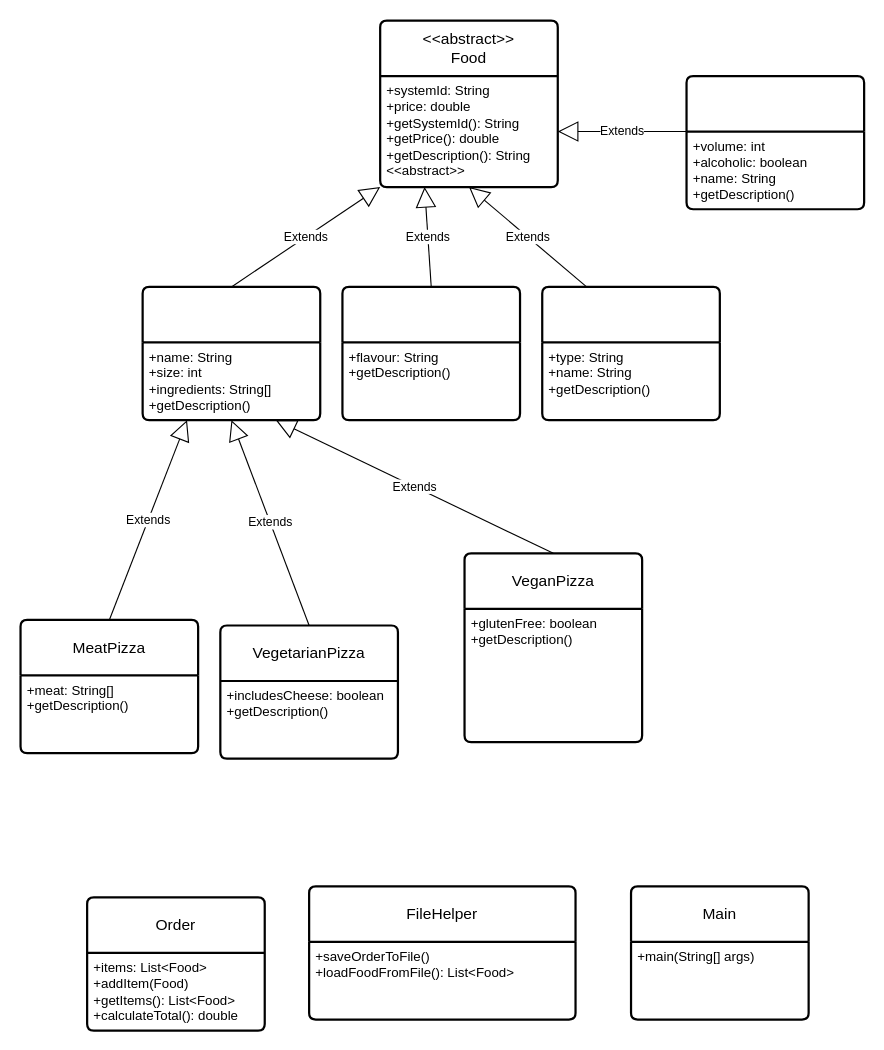
This 884x1050 diagram has some shape labels left out. Each missing label, with the box of its shape:
Drink: (685, 74, 865, 210)
Pizza: (141, 285, 321, 421)
Sauce: (341, 285, 521, 421)
SideDish: (541, 285, 720, 421)
